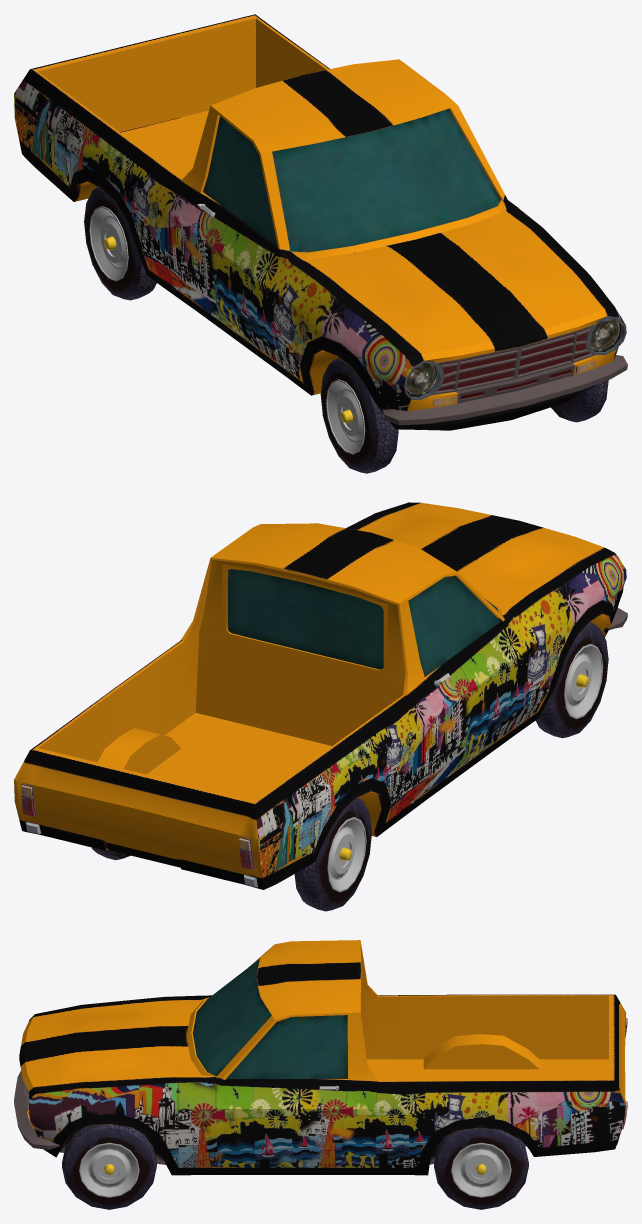
The model's file is car2 (5).fbx.
The picture shows the model from 3 angles, top to bottom: view 1: azimuth 30°, elevation 25°; view 2: azimuth 150°, elevation 25°; view 3: azimuth 270°, elevation 25°; orthographic projection. The views are drawn at different scales.
Parts seen in each view (by area): view 1: car body, tyre, tyre.003, tyre.001; view 2: car body, tyre.003, tyre; view 3: car body, tyre.001, tyre.002.
Boxes of the visible parts, bbox=[...] form: car body: bbox=[14, 14, 627, 430]; tyre: bbox=[320, 357, 398, 473]; tyre.003: bbox=[84, 187, 156, 300]; tyre.001: bbox=[551, 380, 608, 422]; car body: bbox=[14, 502, 627, 889]; tyre.003: bbox=[294, 797, 371, 911]; tyre: bbox=[535, 622, 608, 738]; car body: bbox=[14, 940, 627, 1175]; tyre.001: bbox=[62, 1124, 156, 1209]; tyre.002: bbox=[434, 1128, 528, 1209].
Bounding box in the file's own units: 132 × 123 × 347.
1 material, 1 textured.
